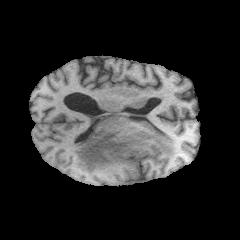glioma: (74, 128, 176, 179)
